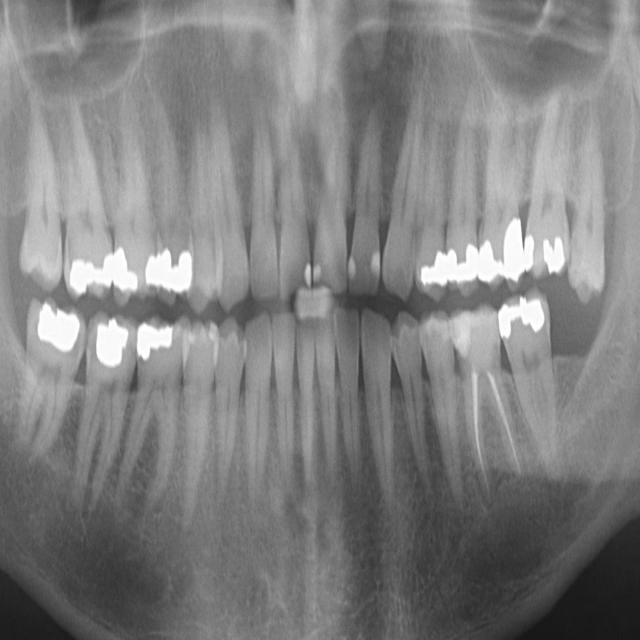dolgu: (20, 302, 90, 364), (63, 227, 119, 297), (496, 290, 554, 351), (134, 308, 184, 371), (90, 306, 134, 373), (113, 242, 152, 312), (340, 240, 390, 294), (506, 203, 539, 284), (160, 240, 198, 302), (443, 239, 481, 296), (540, 225, 574, 282), (483, 230, 513, 287), (292, 245, 328, 290), (416, 243, 449, 292)
kanal-tedavisi: (466, 368, 518, 478)
